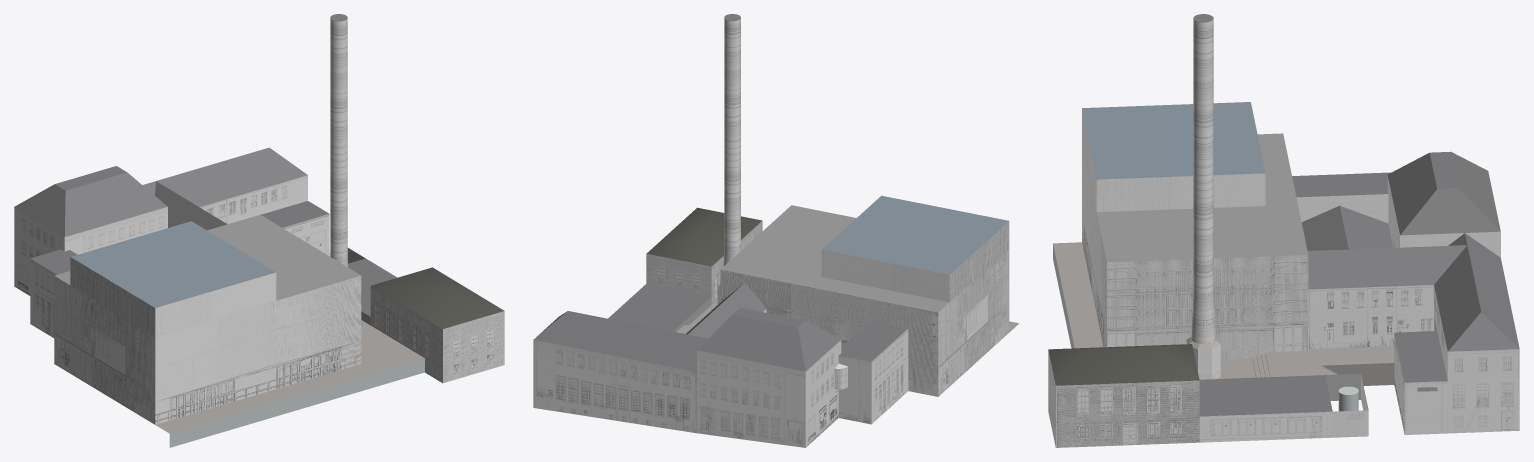
The model's file is Walther-Pauer-Bau.gltf.
The picture shows the model from 3 angles, left to right: view 1: azimuth 30°, elevation 25°; view 2: azimuth 150°, elevation 25°; view 3: azimuth 270°, elevation 25°; orthographic projection. The views are drawn at different scales.
Parts seen in each view (by area): view 1: Hauptgebaeude.1; view 2: Hauptgebaeude.1; view 3: Hauptgebaeude.1.
Boxes of the visible parts, x1=… form: Hauptgebaeude.1: x1=14, y1=14, x2=504, y2=447; Hauptgebaeude.1: x1=533, y1=14, x2=1018, y2=447; Hauptgebaeude.1: x1=1048, y1=14, x2=1519, y2=447.
Size of the model in its own units: 64.49 by 57 by 65.3.
Materials: 35 (25 with a texture image).
